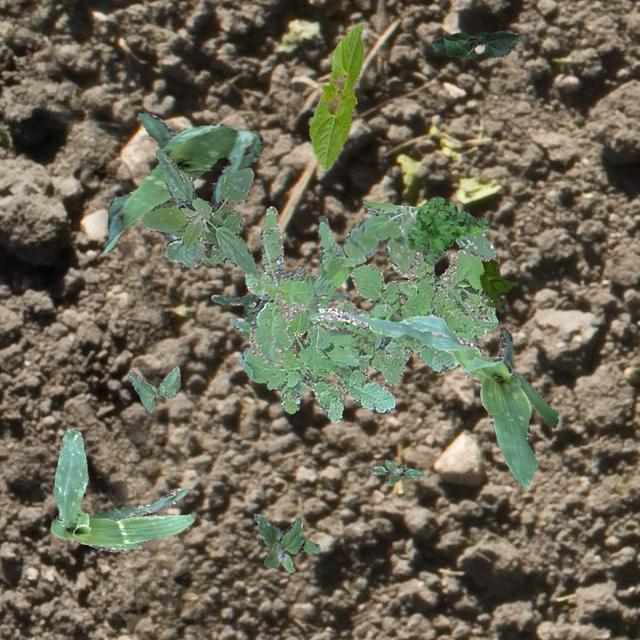crop: (306, 306, 558, 488), (102, 110, 262, 252), (50, 428, 194, 552), (140, 148, 260, 276), (306, 24, 364, 168), (210, 292, 352, 338), (428, 29, 520, 58), (126, 364, 180, 412)
weed: (238, 248, 497, 422), (244, 206, 354, 364), (342, 200, 494, 278), (406, 196, 488, 264), (280, 310, 358, 378), (252, 512, 320, 572), (478, 258, 518, 312), (368, 458, 422, 484)
